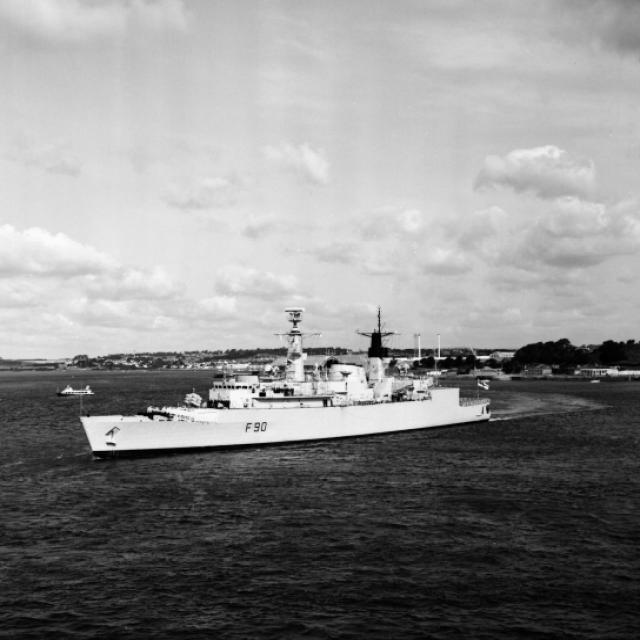Fragata: (76, 285, 495, 461)
